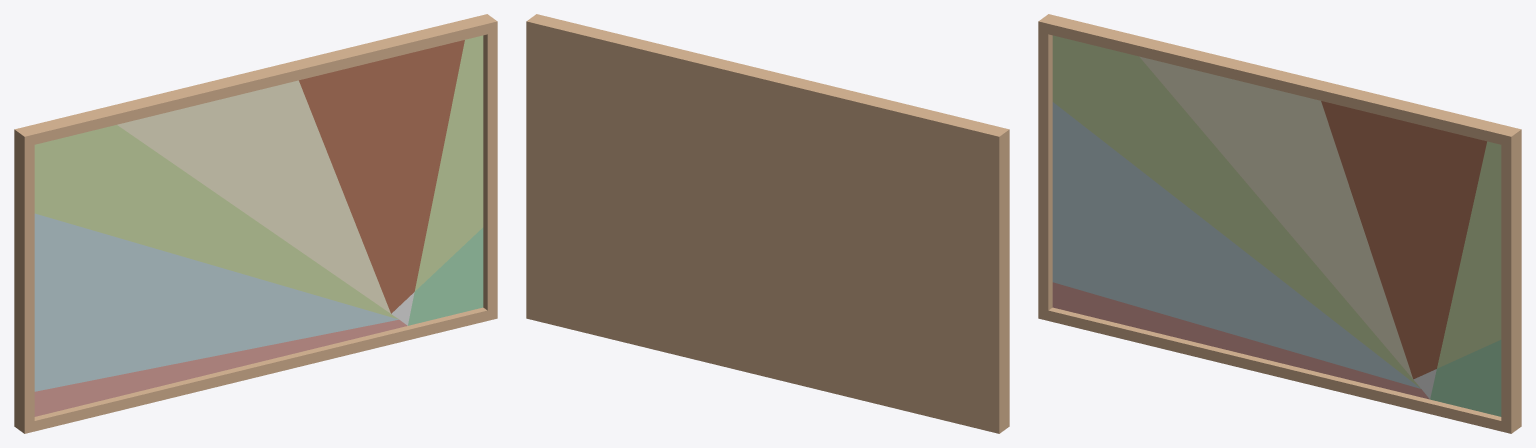
File: picture3.fbx
3 views of the same model, side by side, from view 1: azimuth 30°, elevation 25°; view 2: azimuth 150°, elevation 25°; view 3: azimuth 330°, elevation 25° (orthographic).
Parts seen in each view (by area): view 1: Cube_16; view 2: Cube_16; view 3: Cube_16.
Part boxes in pixels (x1,y1,x2,y2): Cube_16: [14, 14, 497, 433]; Cube_16: [526, 14, 1009, 433]; Cube_16: [1038, 14, 1521, 433].
Size of the model in its own units: 42.49 by 25.51 by 1.58.
